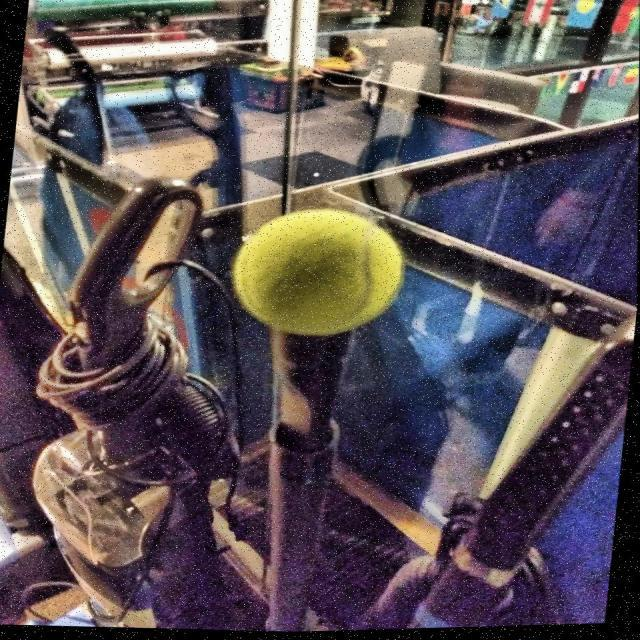tennis-ball: (215, 201, 423, 355)
